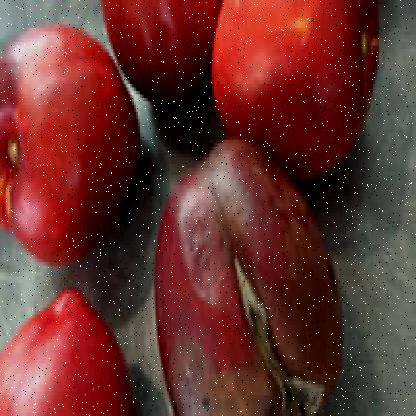apple: (210, 7, 364, 154), (6, 284, 126, 406)
damaged_apple: (156, 133, 338, 402), (2, 28, 136, 262)
